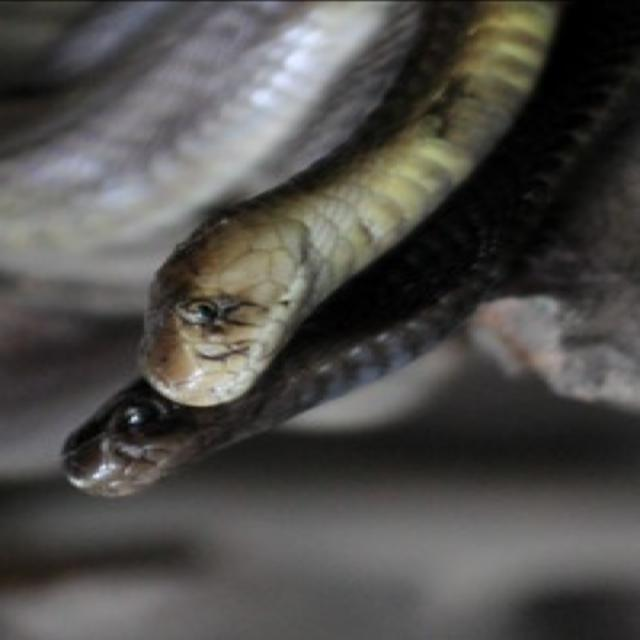snake: (0, 0, 640, 499)
